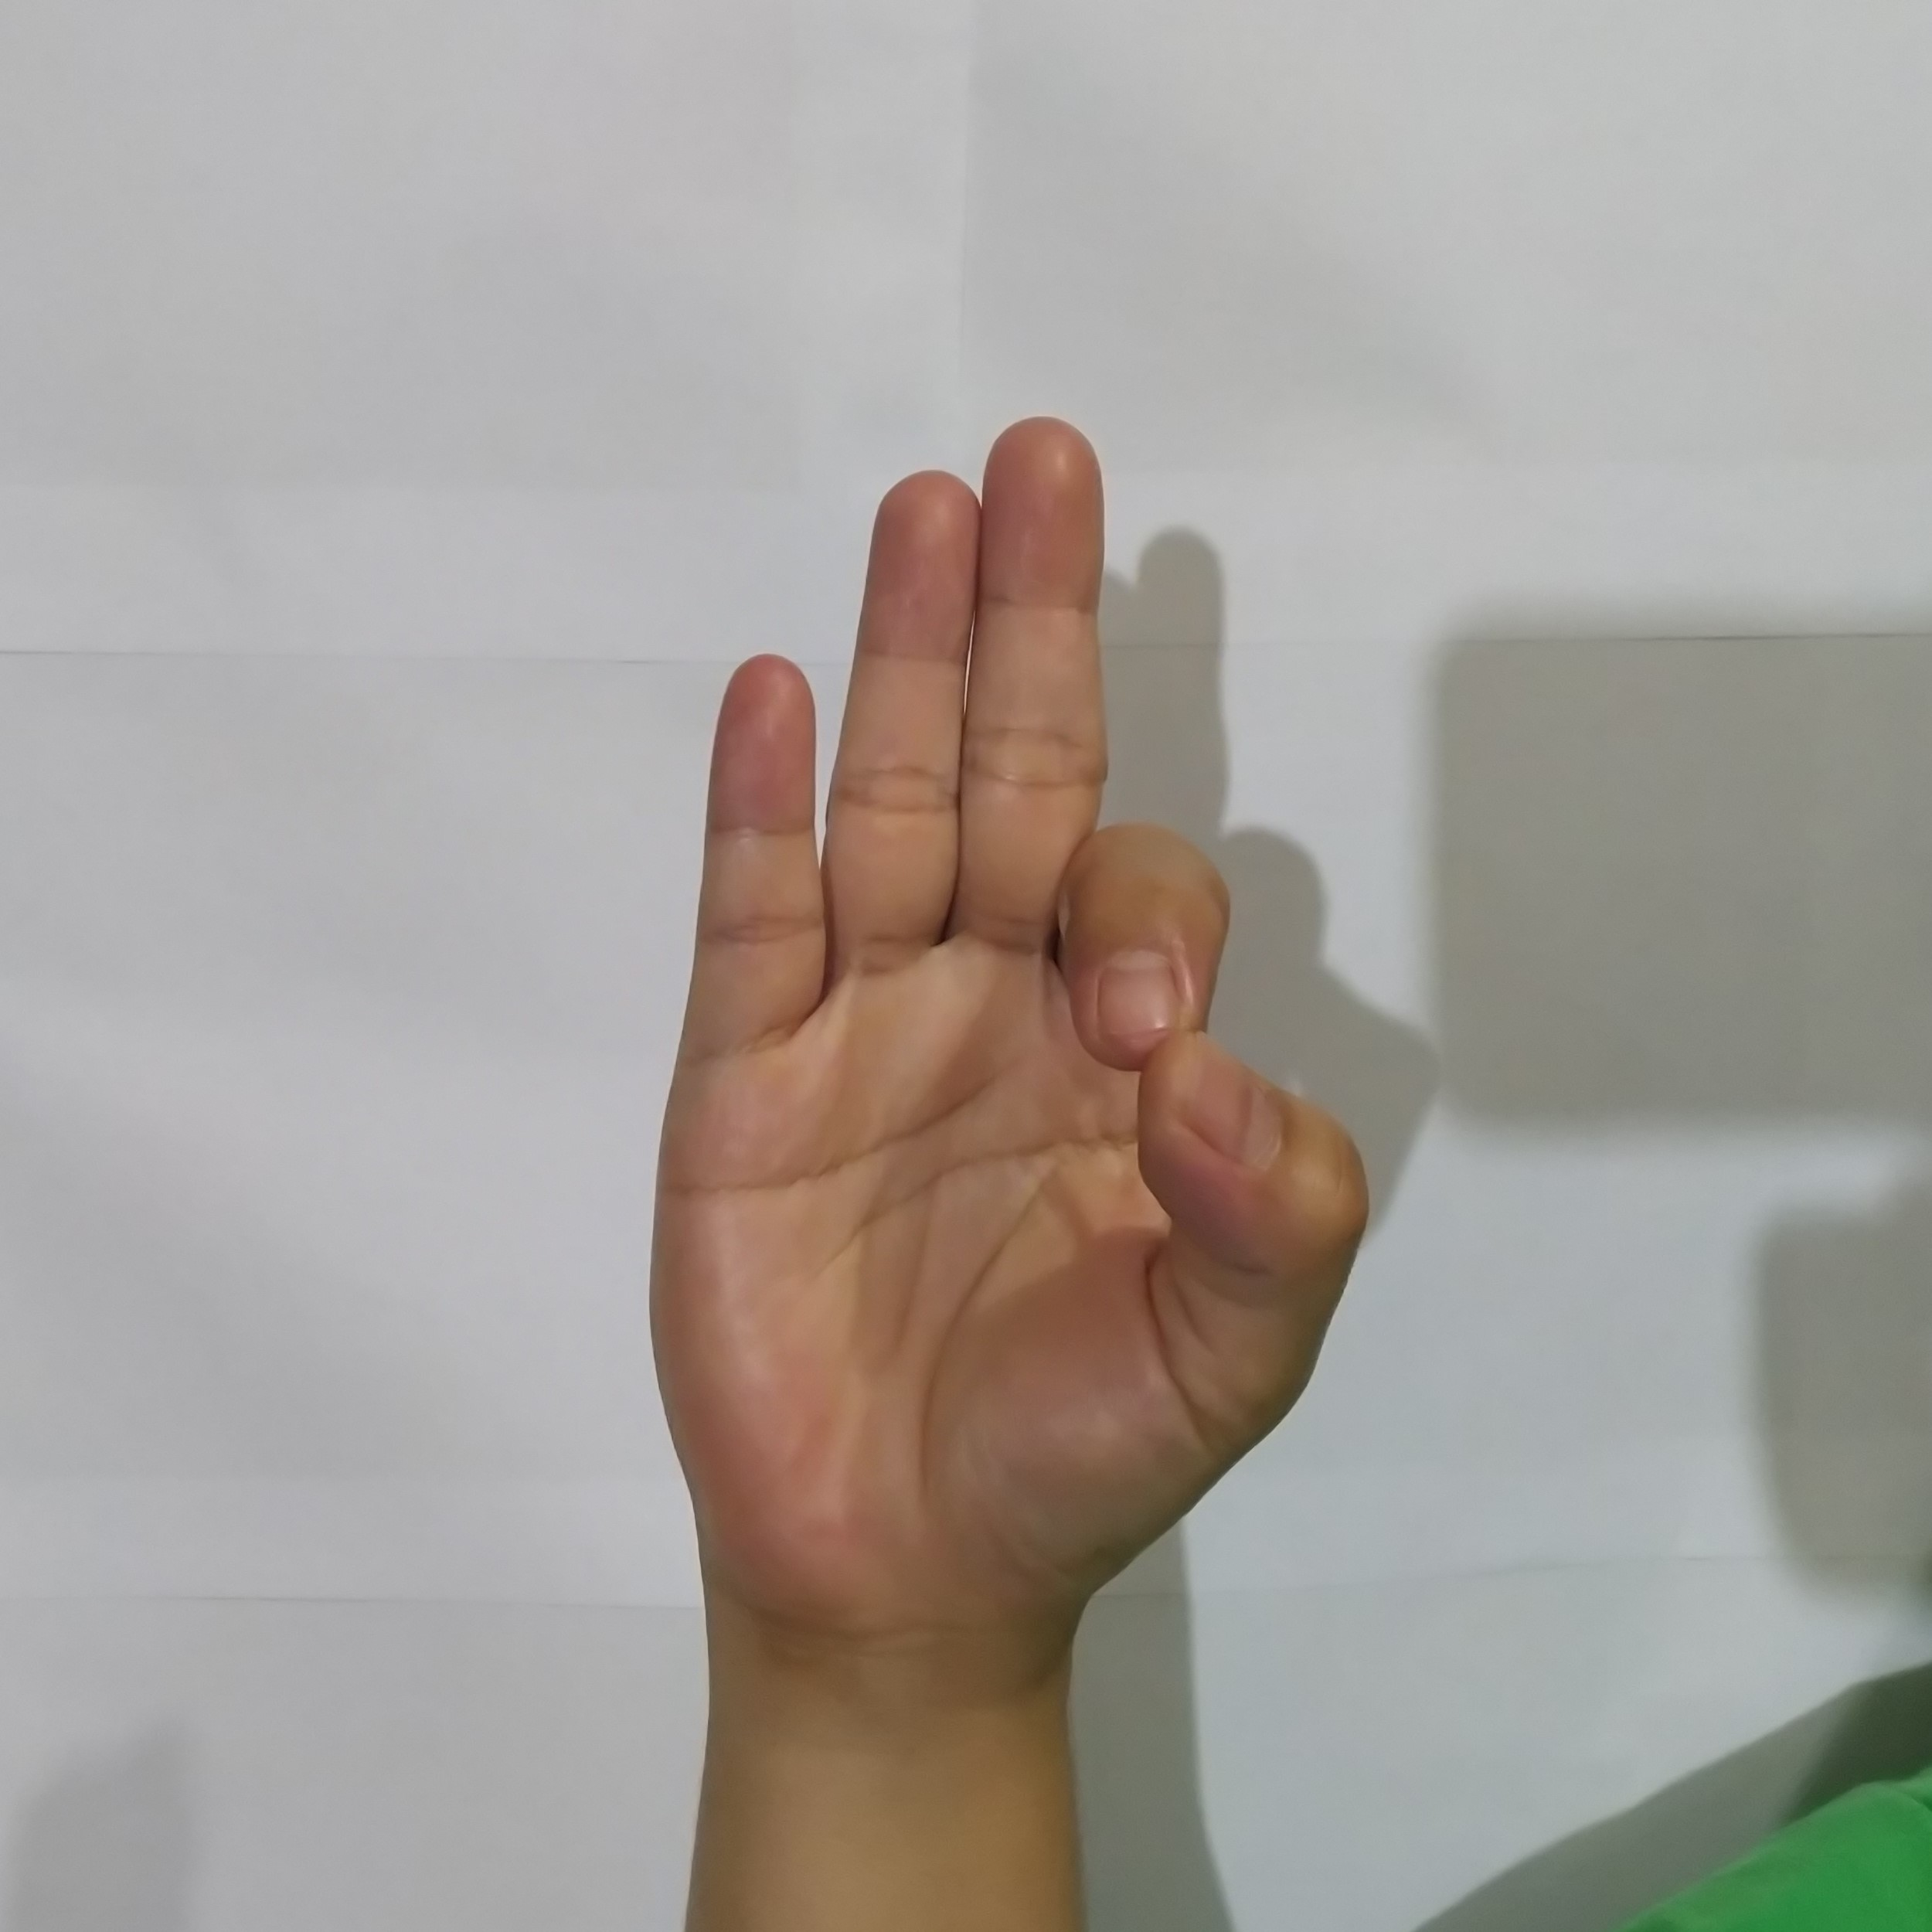F: (625, 391, 1392, 1606)
